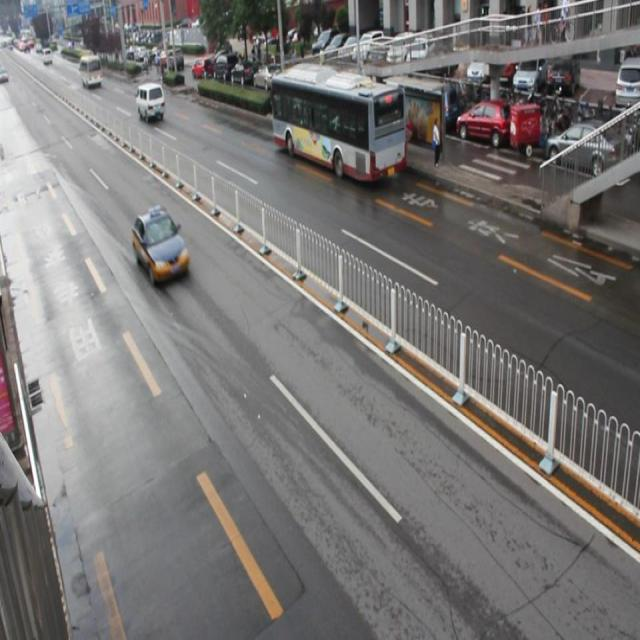car: (132, 208, 190, 285)
truck: (137, 82, 165, 121)
van: (271, 75, 404, 180)
